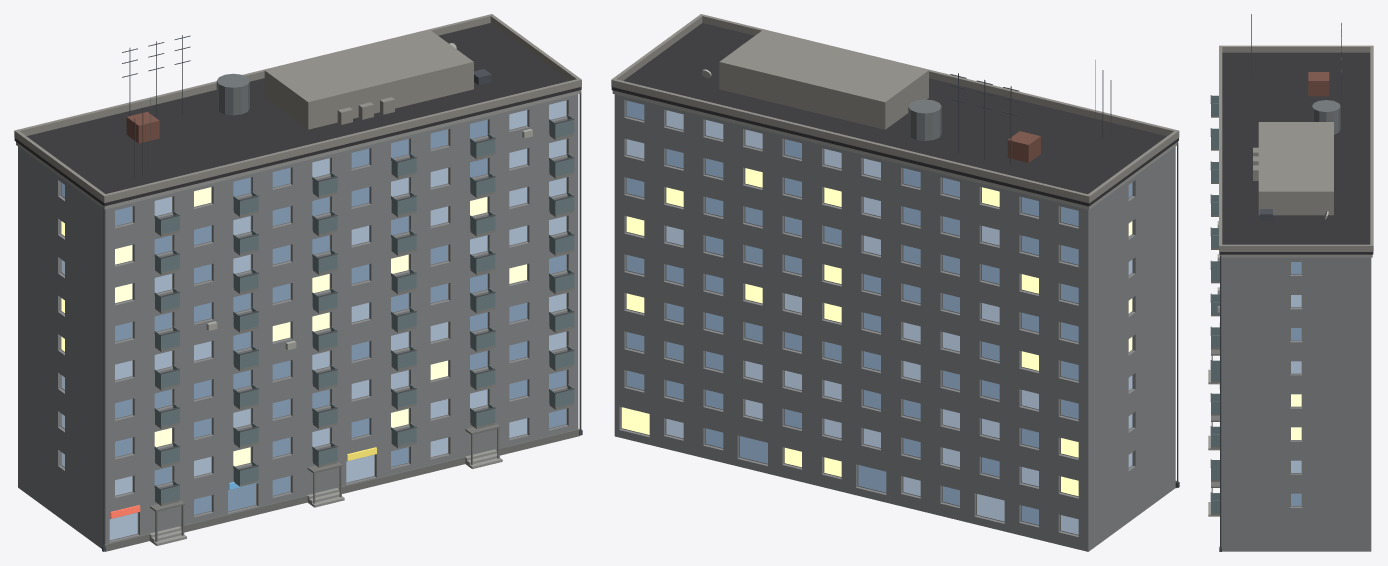
Rendered from panel9_b.glb.
3 views of the same model, side by side, from view 1: azimuth 30°, elevation 25°; view 2: azimuth 150°, elevation 25°; view 3: azimuth 270°, elevation 25° (orthographic). The views are drawn at different scales.
Parts seen in each view (by area): view 1: facade_front, facade_left, roof_slab, tech_floor, parapet_y, plinth, parapet_y.001, cornice, water_tank, downpipe.001, parapet_x, parapet_x.001 (+2 smaller); view 2: facade_back, facade_left, roof_slab, tech_floor, parapet_y.001, parapet_y, cornice, water_tank, parapet_x, parapet_x.001, vent_stack, downpipe; view 3: facade_right, roof_slab, tech_floor, parapet_x.001, parapet_x, parapet_y, parapet_y.001, water_tank, cornice, downpipe.001, vent_stack.
Boxes of the visible parts, left/top/right/bottom form: facade_front: left=105, top=94, right=578, bottom=544; facade_left: left=18, top=146, right=105, bottom=548; roof_slab: left=14, top=23, right=581, bottom=206; tech_floor: left=264, top=30, right=473, bottom=129; parapet_y: left=103, top=78, right=581, bottom=202; plinth: left=104, top=429, right=579, bottom=551; parapet_y.001: left=15, top=14, right=492, bottom=135; cornice: left=16, top=90, right=580, bottom=209; water_tank: left=216, top=73, right=249, bottom=115; downpipe.001: left=579, top=90, right=581, bottom=430; parapet_x: left=14, top=130, right=106, bottom=202; parapet_x.001: left=489, top=14, right=581, bottom=86; facade_back: left=614, top=94, right=1088, bottom=551; facade_left: left=1088, top=147, right=1175, bottom=551; roof_slab: left=611, top=23, right=1178, bottom=206; tech_floor: left=719, top=30, right=928, bottom=129; parapet_y.001: left=611, top=78, right=1089, bottom=203; parapet_y: left=700, top=14, right=1178, bottom=135; cornice: left=612, top=90, right=1177, bottom=209; water_tank: left=908, top=99, right=941, bottom=140; parapet_x: left=1087, top=131, right=1179, bottom=202; parapet_x.001: left=611, top=14, right=703, bottom=80; vent_stack: left=1007, top=131, right=1040, bottom=162; downpipe: left=1177, top=142, right=1178, bottom=482; facade_right: left=1221, top=257, right=1371, bottom=551; roof_slab: left=1219, top=52, right=1373, bottom=254; tech_floor: left=1258, top=122, right=1333, bottom=215; parapet_x.001: left=1219, top=244, right=1373, bottom=251; parapet_x: left=1219, top=45, right=1373, bottom=52; parapet_y: left=1219, top=45, right=1222, bottom=251; parapet_y.001: left=1370, top=45, right=1373, bottom=251; water_tank: left=1312, top=100, right=1340, bottom=134; cornice: left=1220, top=254, right=1372, bottom=257; downpipe.001: left=1220, top=255, right=1221, bottom=547; vent_stack: left=1308, top=72, right=1329, bottom=96.
Size of what is drawn, in the model's own units: 36.44 by 31.2 by 12.67.
